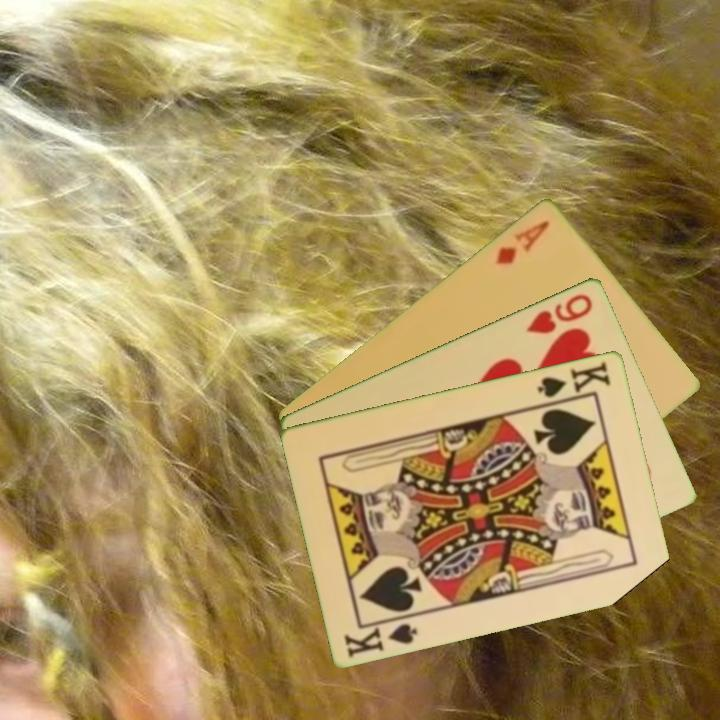9h: (522, 290, 596, 337)
Ad: (491, 215, 552, 267)
Ks: (340, 611, 421, 660), (534, 357, 614, 400)
